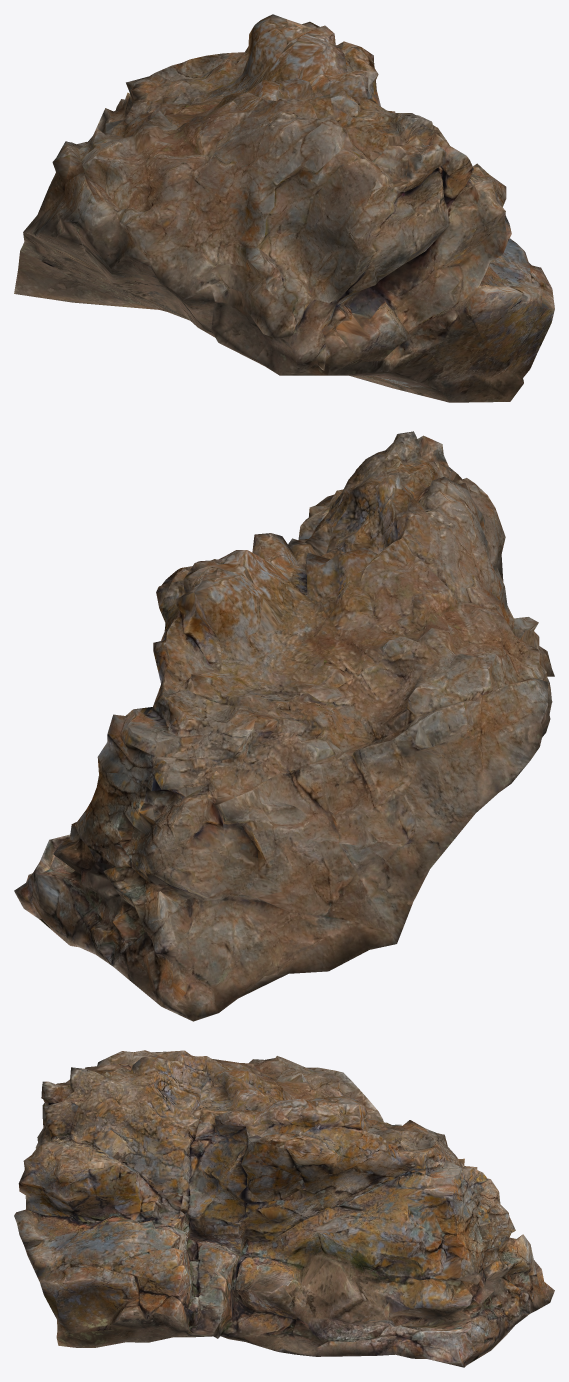
File: boulder_01_game.glb
3 views of the same model, one above another, from view 1: azimuth 30°, elevation 25°; view 2: azimuth 150°, elevation 25°; view 3: azimuth 270°, elevation 25° (orthographic). The views are drawn at different scales.
Parts seen in each view (by area): view 1: Boulder01; view 2: Boulder01; view 3: Boulder01.
Boxes of the visible parts, left/top/right/bottom form: Boulder01: left=14, top=14, right=554, bottom=402; Boulder01: left=14, top=431, right=554, bottom=1021; Boulder01: left=14, top=1050, right=554, bottom=1367.
Size of the model in its own units: 1.28 by 0.9959 by 1.83.
1 material, 1 textured.
